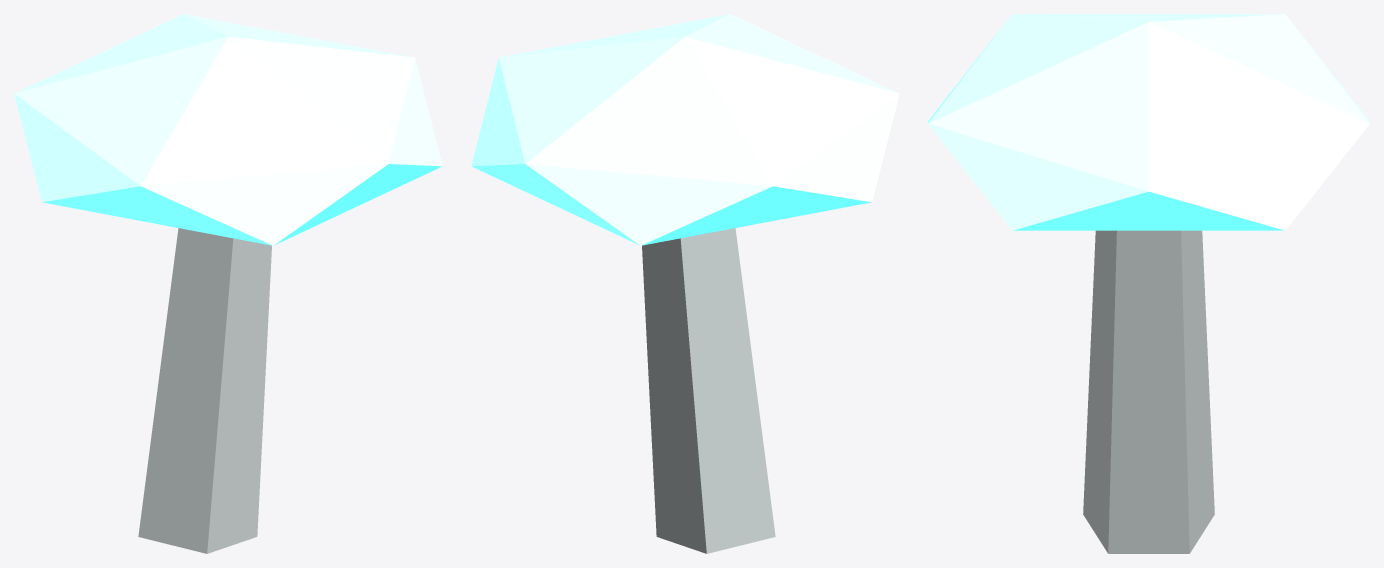
File: Mushroom_Glow_A.glb
The picture shows the model from 3 angles, left to right: view 1: azimuth 30°, elevation 25°; view 2: azimuth 150°, elevation 25°; view 3: azimuth 270°, elevation 25°; orthographic projection. The views are drawn at different scales.
Visible parts, largest first — view 1: Mushroom_Glow_A; view 2: Mushroom_Glow_A; view 3: Mushroom_Glow_A.
Part boxes in pixels (left/top/right/bottom): Mushroom_Glow_A: left=14, top=14, right=442, bottom=553; Mushroom_Glow_A: left=471, top=14, right=899, bottom=553; Mushroom_Glow_A: left=928, top=14, right=1369, bottom=553.
Bounding box in the file's own units: 0.5367 × 0.6714 × 0.5104.
1 material, 1 textured.
